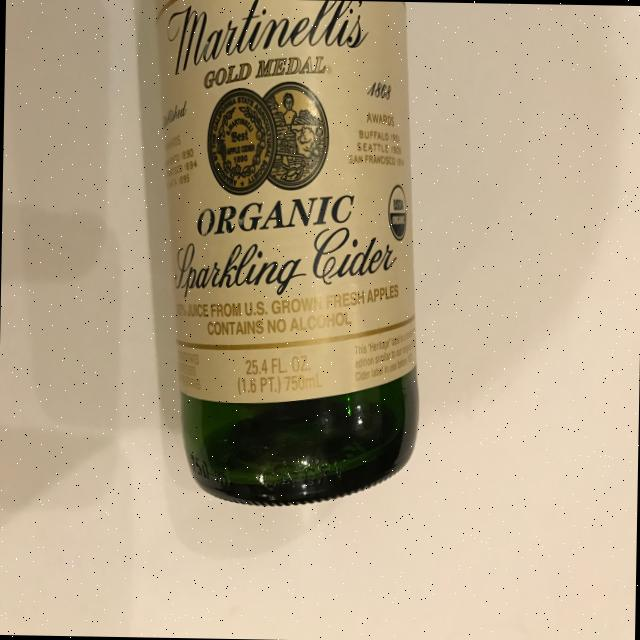glass: (128, 0, 426, 509)
